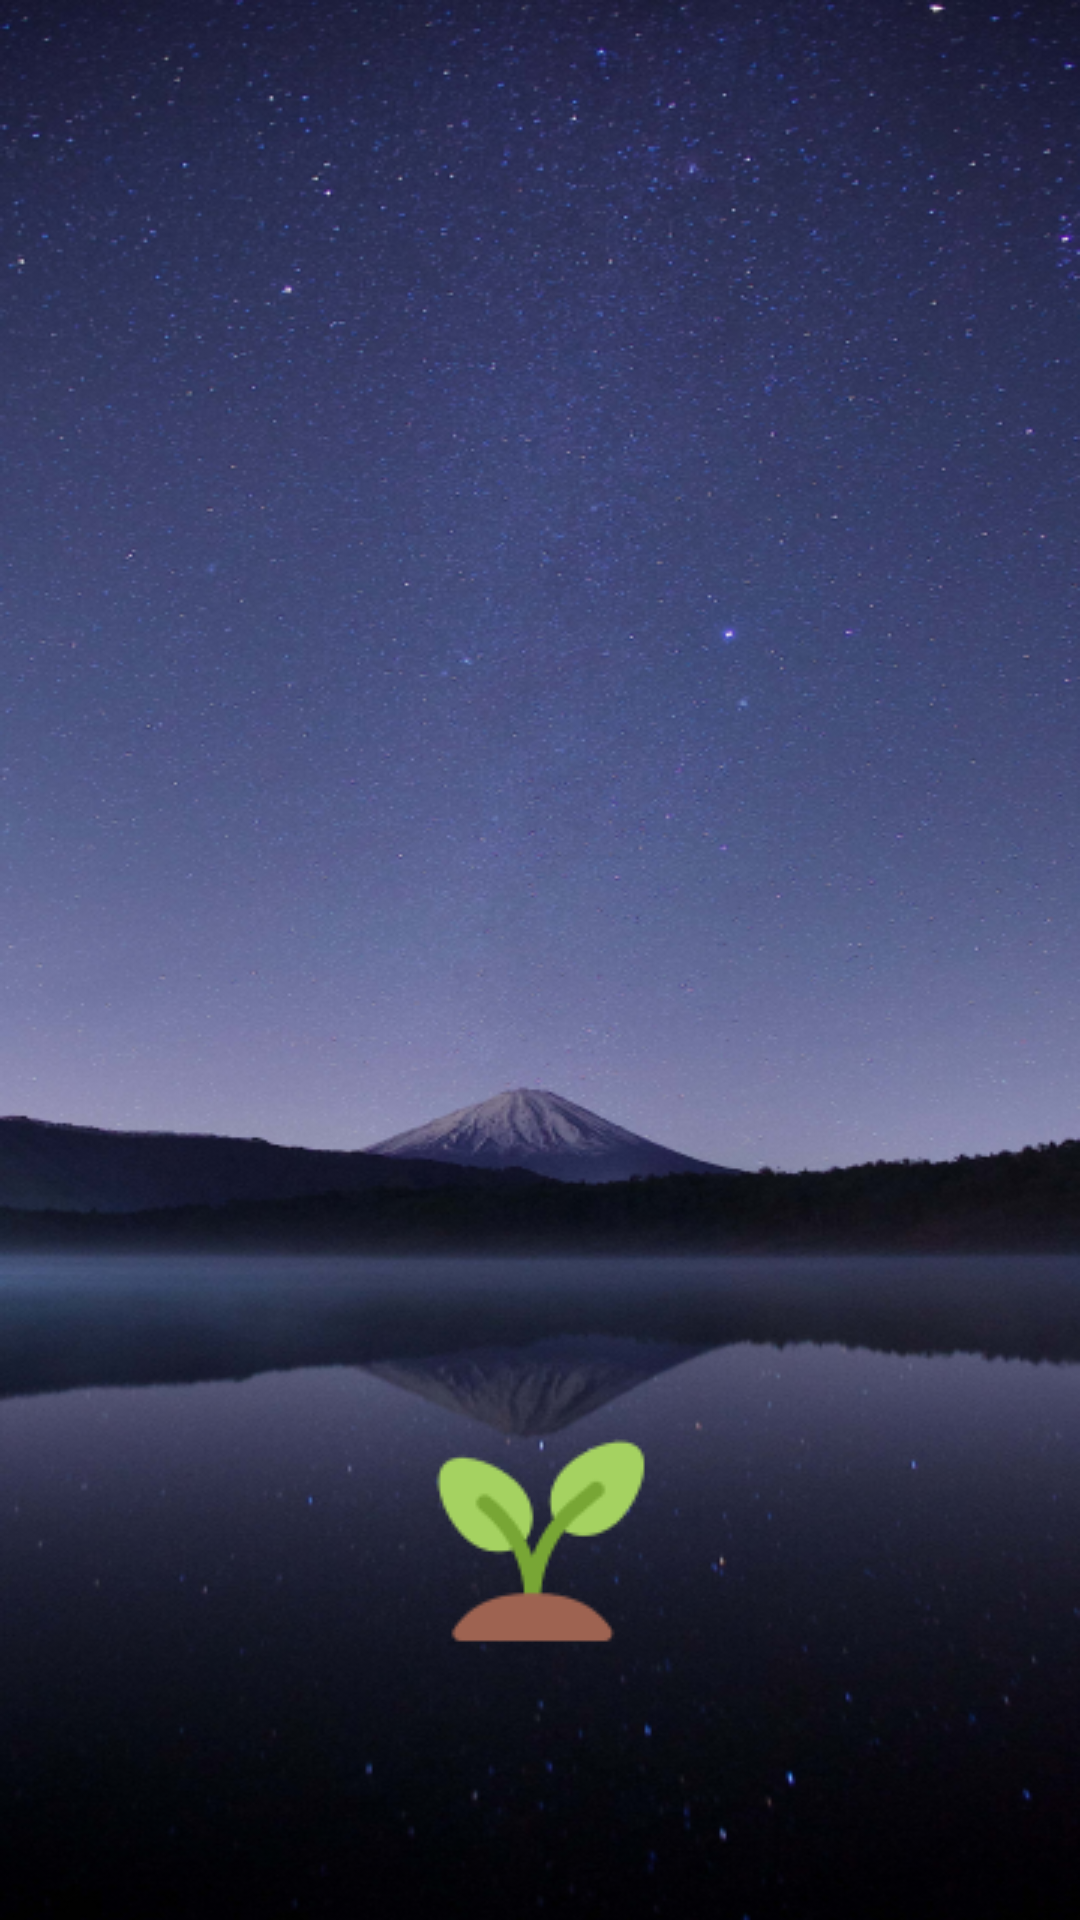

Point at icon controls on the screen. Image size 1080 x 1920, points as (x,y).
sprout: (540,1537)
